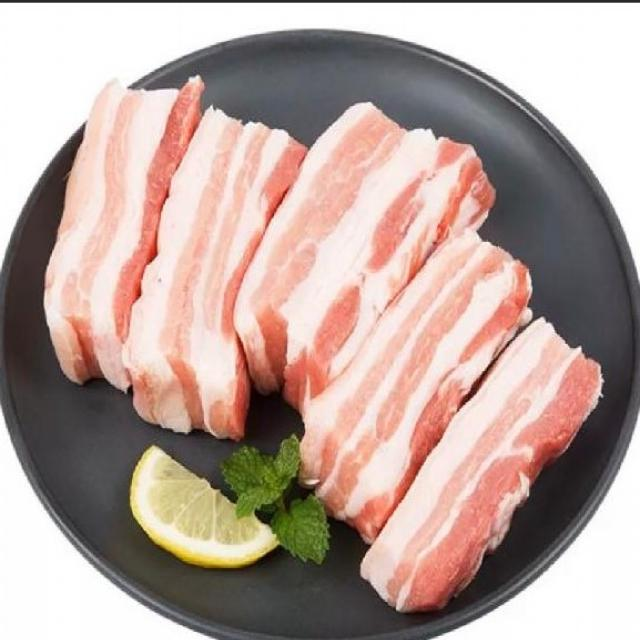pork belly: (360, 318, 605, 611), (247, 104, 494, 394), (312, 221, 515, 526), (62, 72, 158, 387)
